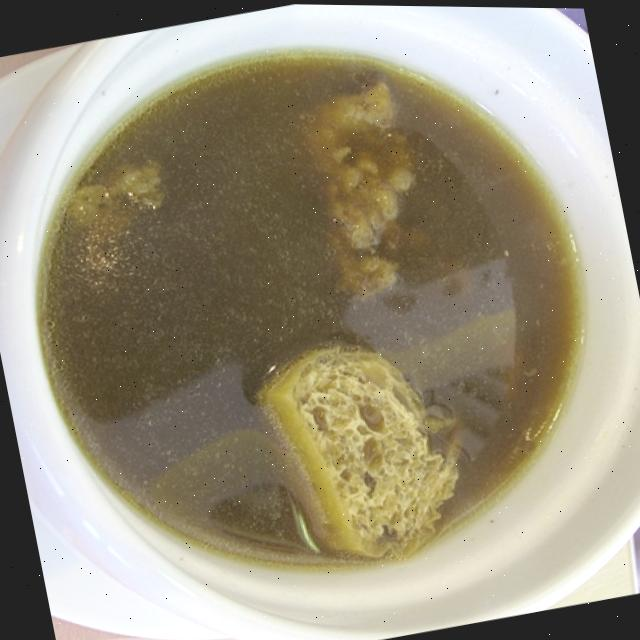汤锅炖物: (12, 0, 626, 640)
